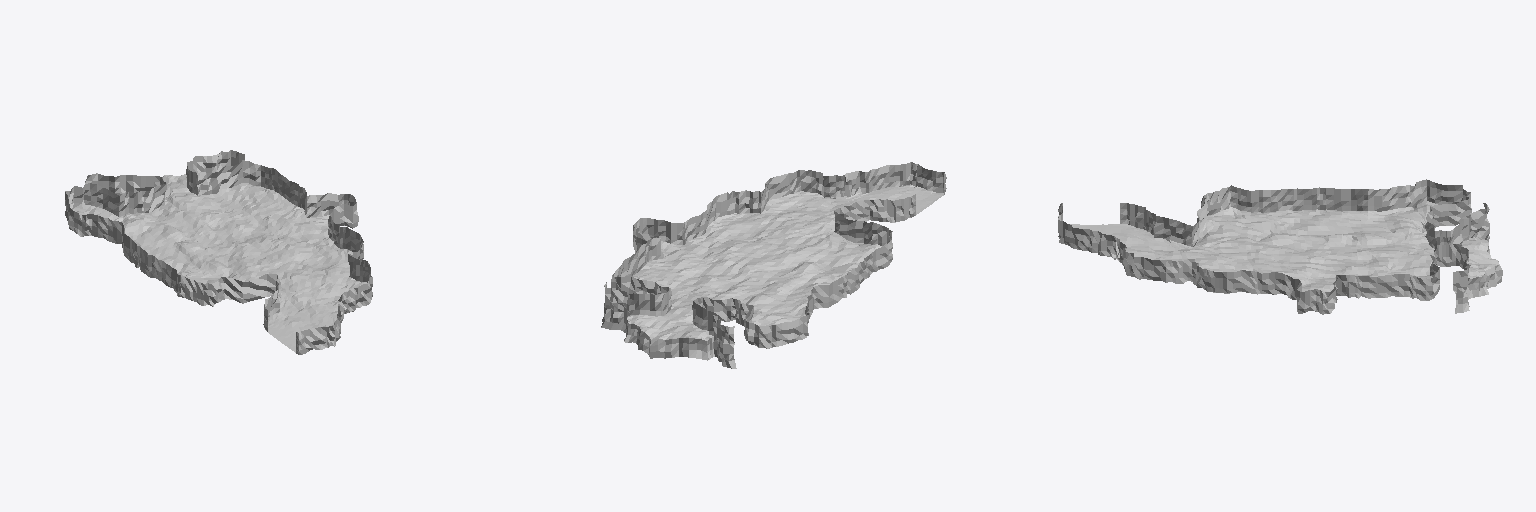
The model's file is world.obj.
The picture shows the model from 3 angles: view 1: azimuth 30°, elevation 25°; view 2: azimuth 150°, elevation 25°; view 3: azimuth 270°, elevation 25°; orthographic projection.
Visible parts, largest first — view 1: Plane_Plane.001; view 2: Plane_Plane.001; view 3: Plane_Plane.001.
Boxes of the visible parts, x1,y1,x2,y2 form: Plane_Plane.001: [65, 150, 372, 354]; Plane_Plane.001: [601, 162, 946, 368]; Plane_Plane.001: [1058, 179, 1502, 314].
Size of the model in its own units: 1121 by 221 by 1896.